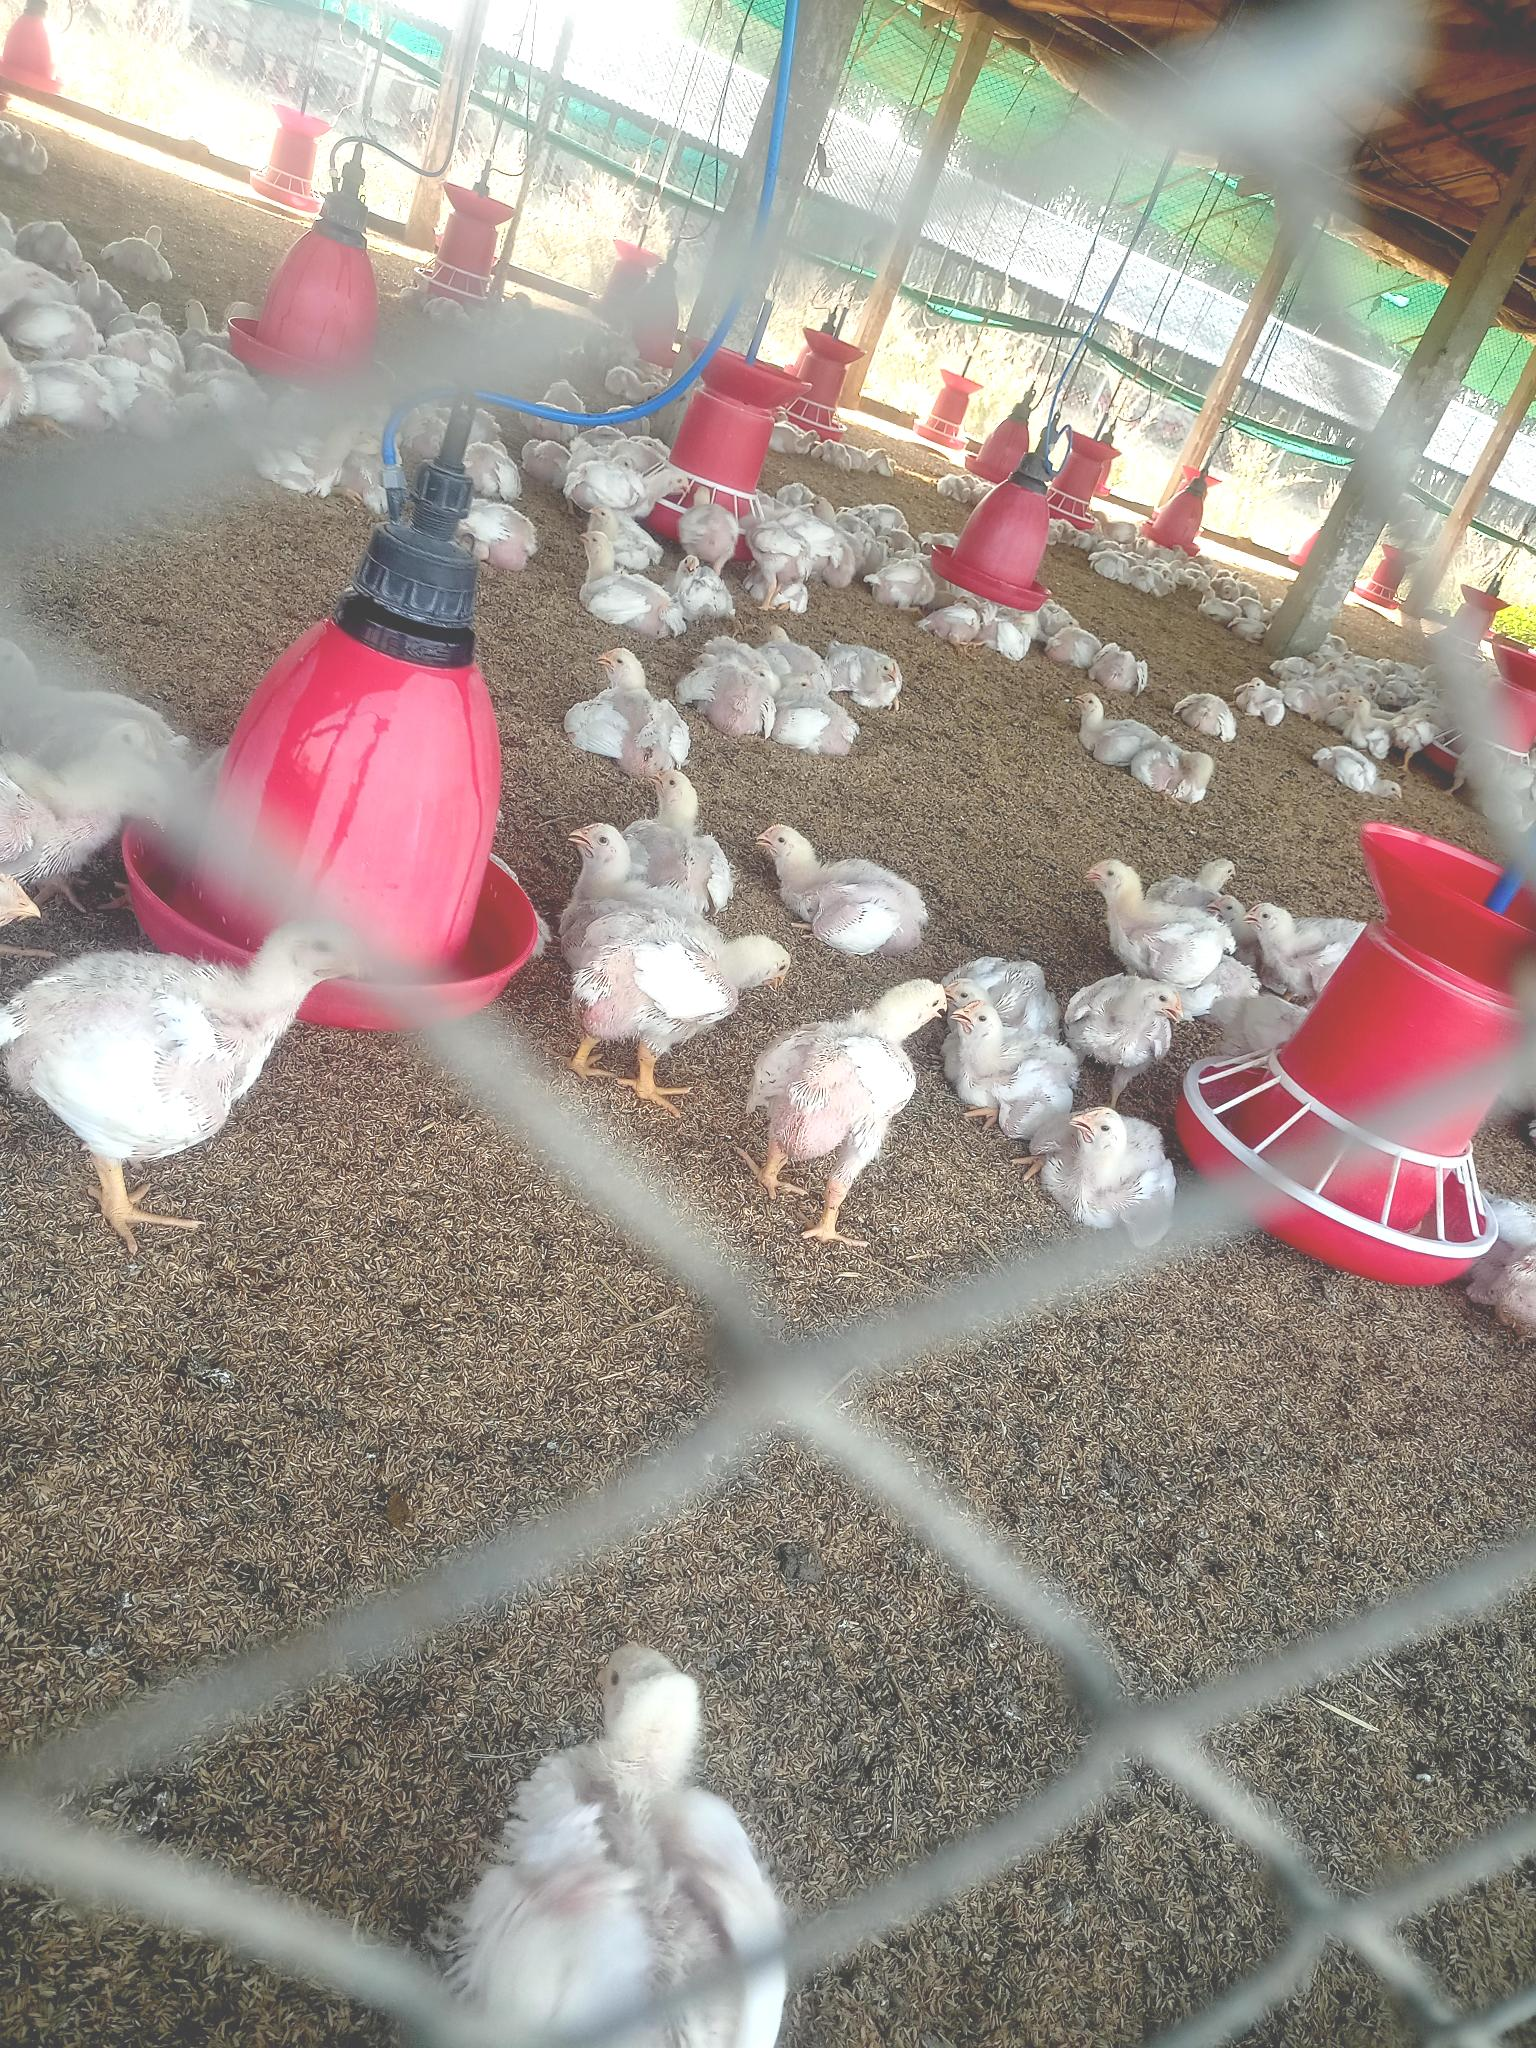Pollos: (466, 1643, 784, 2013), (5, 918, 360, 1151), (750, 971, 955, 1164), (557, 818, 724, 1027), (936, 971, 1084, 1130), (770, 821, 933, 947), (561, 631, 703, 766), (1086, 855, 1226, 984), (1070, 1113, 1167, 1247), (1087, 972, 1200, 1064)
